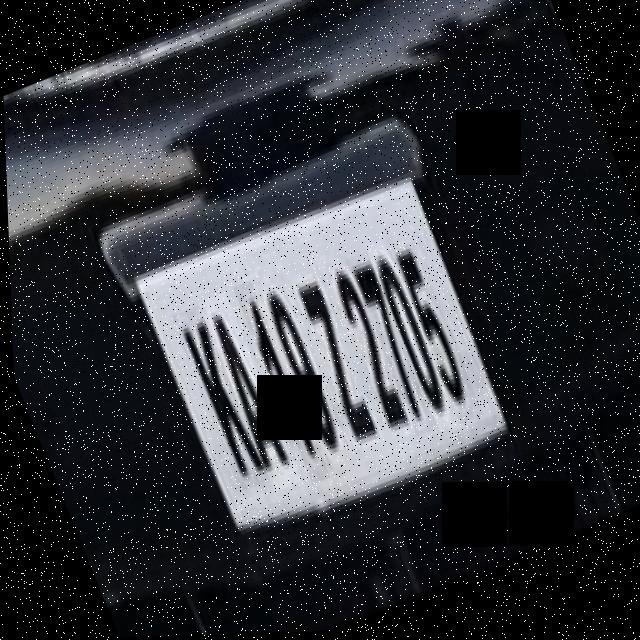0: (363, 237, 460, 436)
1: (231, 280, 328, 488)
5: (389, 242, 482, 429)
7: (343, 252, 436, 441)
9: (256, 282, 346, 468)
A: (196, 291, 300, 495)
K: (169, 304, 268, 494)
Z: (289, 271, 381, 454)
